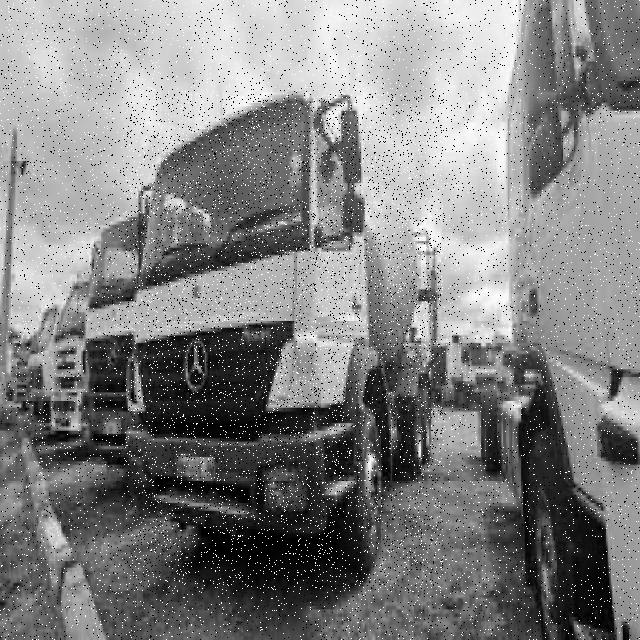Concrete Mixer: (126, 94, 443, 591)
